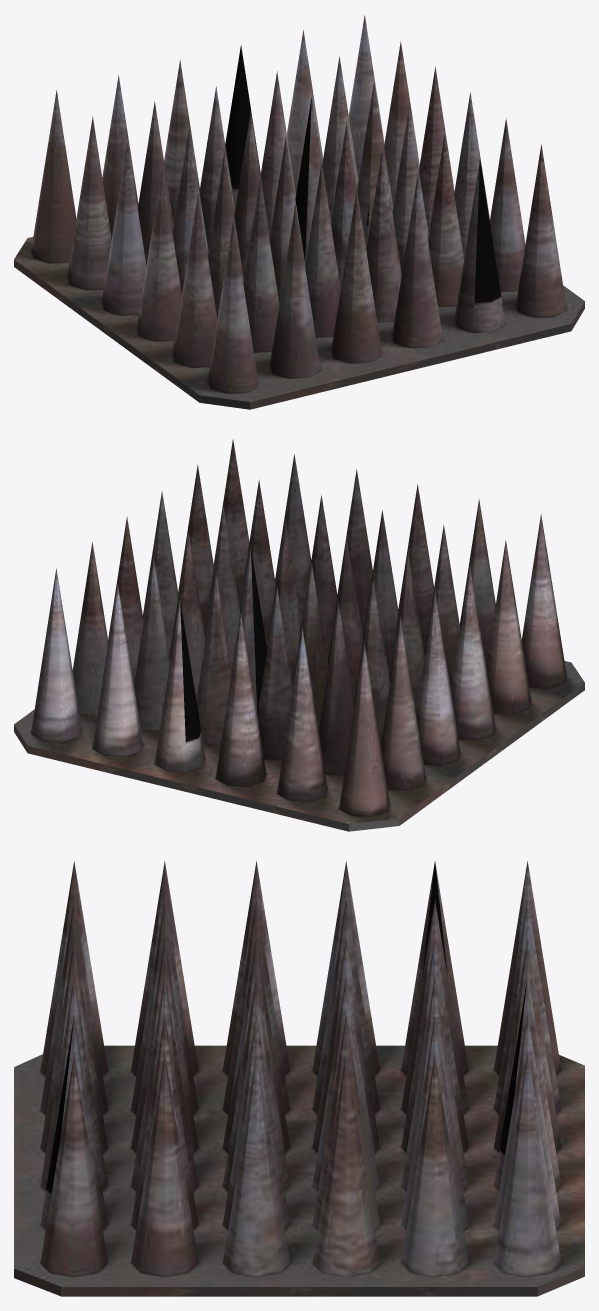
Rendered from trap_spikes_ground.obj.
The picture shows the model from 3 angles, top to bottom: view 1: azimuth 30°, elevation 25°; view 2: azimuth 150°, elevation 25°; view 3: azimuth 270°, elevation 25°; orthographic projection. The views are drawn at different scales.
Visible parts, largest first — view 1: Trap_Spikes; view 2: Trap_Spikes; view 3: Trap_Spikes.
Boxes of the visible parts, x1=… form: Trap_Spikes: x1=14, y1=15, x2=584, y2=409; Trap_Spikes: x1=14, y1=439, x2=584, y2=831; Trap_Spikes: x1=14, y1=860, x2=584, y2=1296.
Bounding box in the file's own units: 7.61 × 3.25 × 7.61.
1 material, 1 textured.
